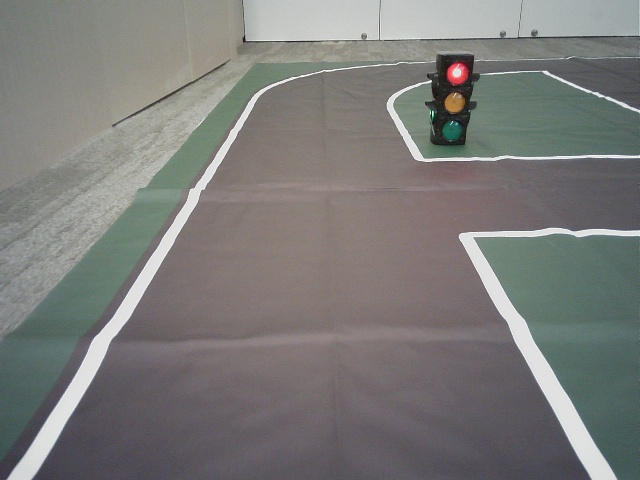red: (441, 57, 468, 142)
